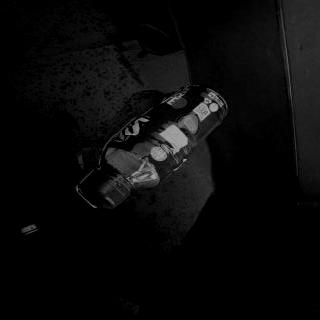bottle: (75, 84, 228, 211)
